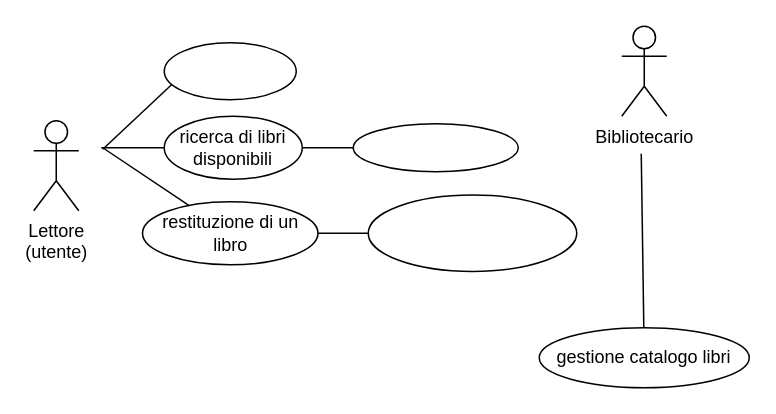
This 776x414 diagram has some shape labels left out. Here are the shapes that lost their labels. From the top down, the centre of each, then its label:
(229,70): registrazione
(435,147): prestito di libri
(472,233): visualizzazione della cronologia dei prestiti
